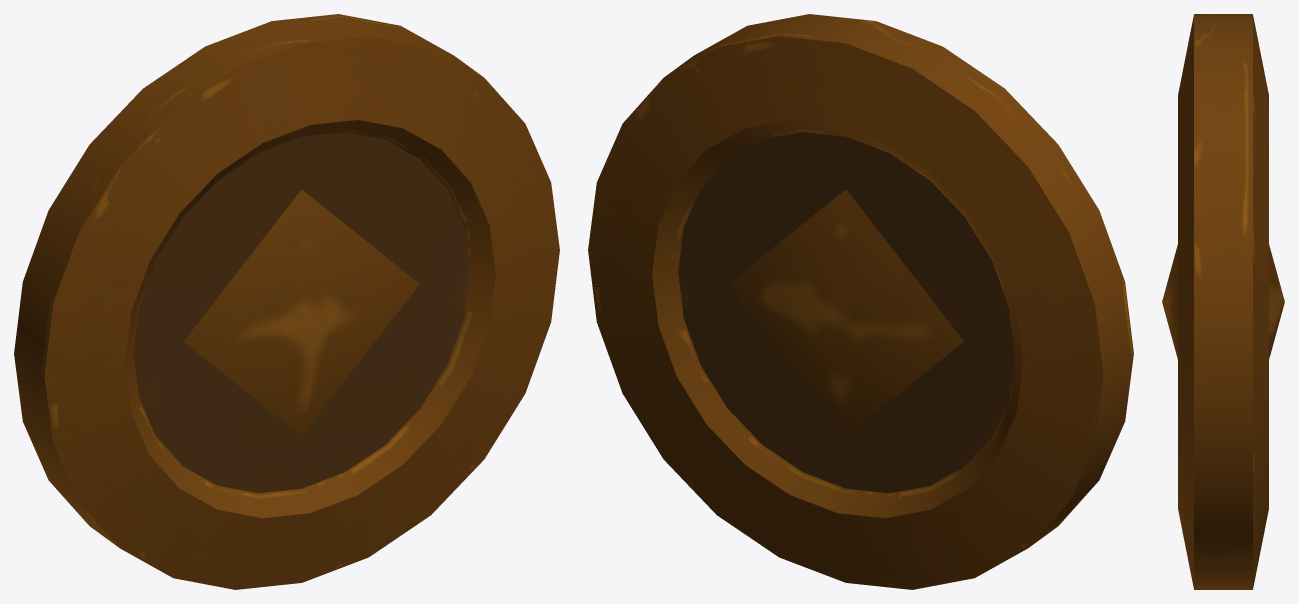
File: Coin.glb
3 renders of one model, left to right at view 1: azimuth 30°, elevation 25°; view 2: azimuth 150°, elevation 25°; view 3: azimuth 270°, elevation 25°, orthographic. The views are drawn at different scales.
Visible parts, largest first — view 1: Coin; view 2: Coin; view 3: Coin.
Part boxes in pixels (left/top/right/bottom): Coin: left=14, top=14, right=559, bottom=589; Coin: left=588, top=14, right=1133, bottom=589; Coin: left=1162, top=14, right=1284, bottom=589.
Size of the model in its own units: 0.0683 by 0.0683 by 0.0145.
Materials: 1 (1 with a texture image).
